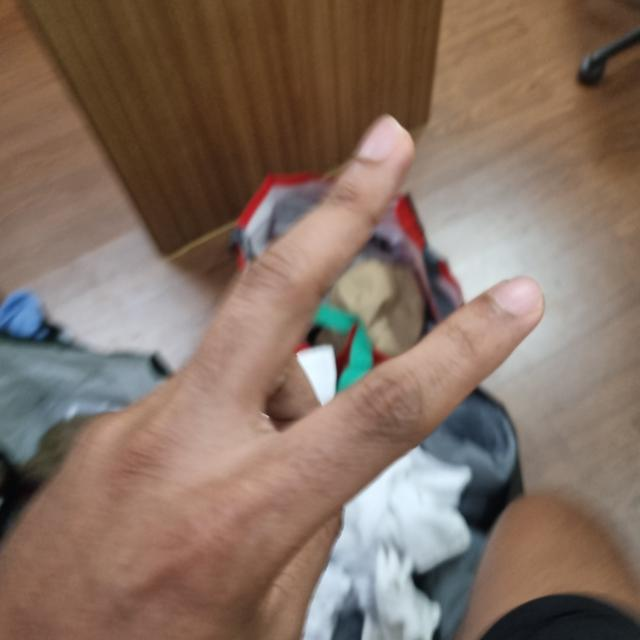Scissors: (0, 119, 547, 638)
